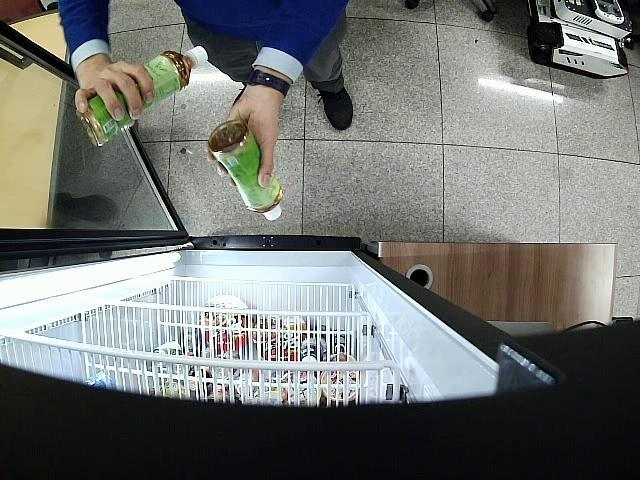19_17cha: (76, 46, 208, 146), (208, 122, 284, 220)
